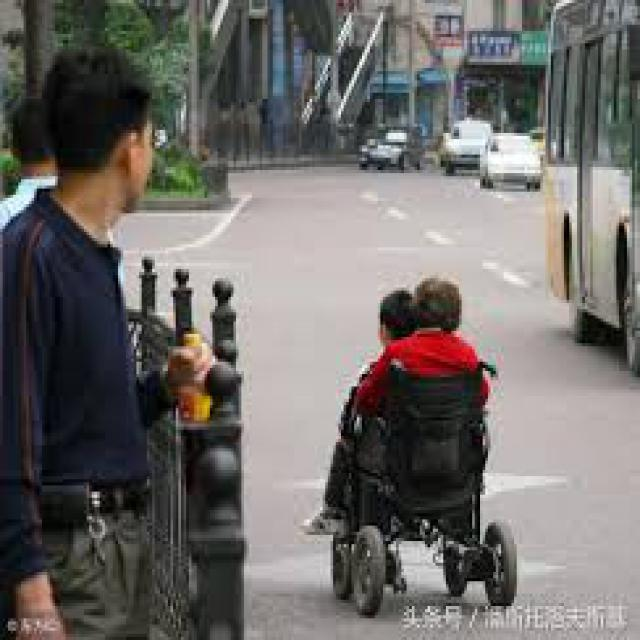wheelchairs: (317, 346, 522, 612)
